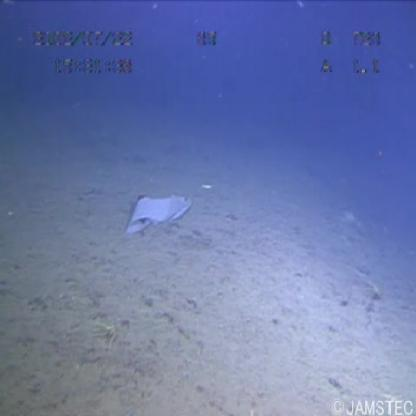Rác: (116, 185, 220, 248)
